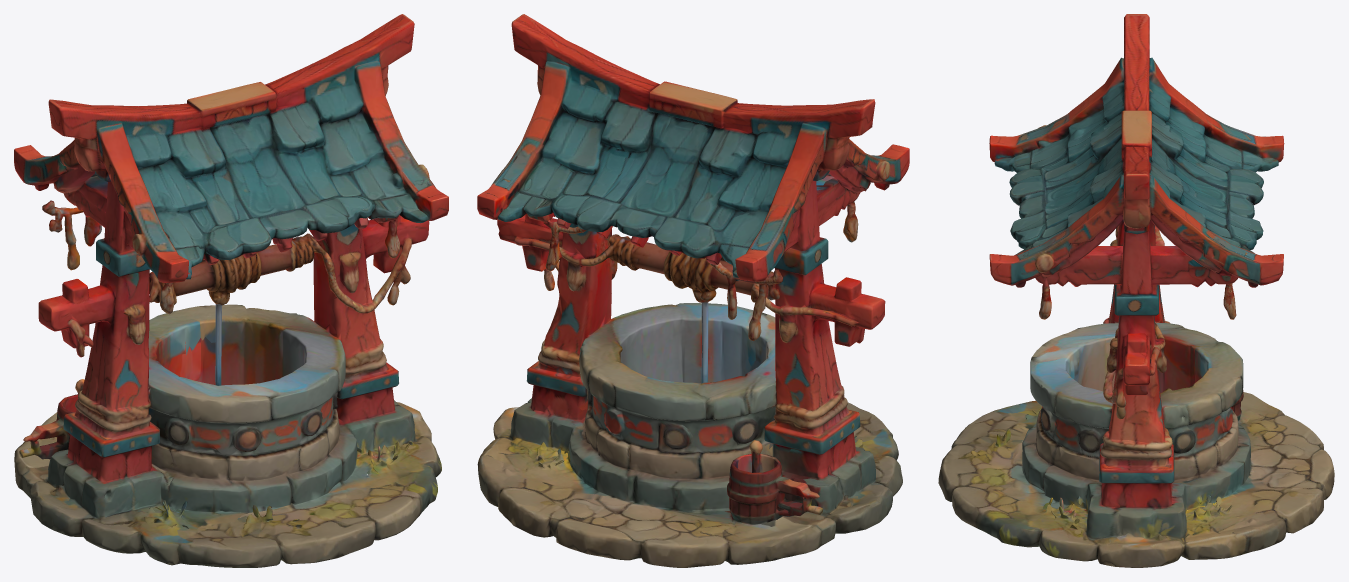
The model's file is deko_outdoor2.glb.
3 views of the same model, side by side, from view 1: azimuth 30°, elevation 25°; view 2: azimuth 150°, elevation 25°; view 3: azimuth 270°, elevation 25° (orthographic). The views are drawn at different scales.
Parts seen in each view (by area): view 1: tripo_node_91d7510c-bff6-4ff7-b4c9-dd5642ef99fa; view 2: tripo_node_91d7510c-bff6-4ff7-b4c9-dd5642ef99fa; view 3: tripo_node_91d7510c-bff6-4ff7-b4c9-dd5642ef99fa.
Part boxes in pixels (left/top/right/bottom): tripo_node_91d7510c-bff6-4ff7-b4c9-dd5642ef99fa: left=14, top=14, right=448, bottom=567; tripo_node_91d7510c-bff6-4ff7-b4c9-dd5642ef99fa: left=477, top=14, right=909, bottom=567; tripo_node_91d7510c-bff6-4ff7-b4c9-dd5642ef99fa: left=938, top=14, right=1334, bottom=567.
Bounding box in the file's own units: 0.9394 × 1 × 0.9113.
Materials: 1 (1 with a texture image).
